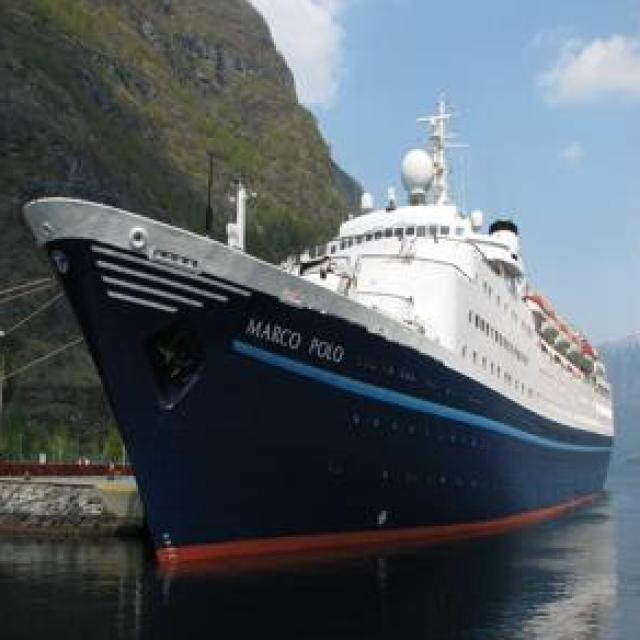passenger ship: (18, 111, 625, 565)
